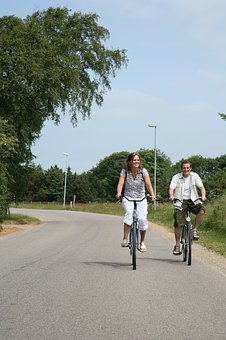bikerider: (107, 150, 159, 272), (165, 158, 211, 272)
